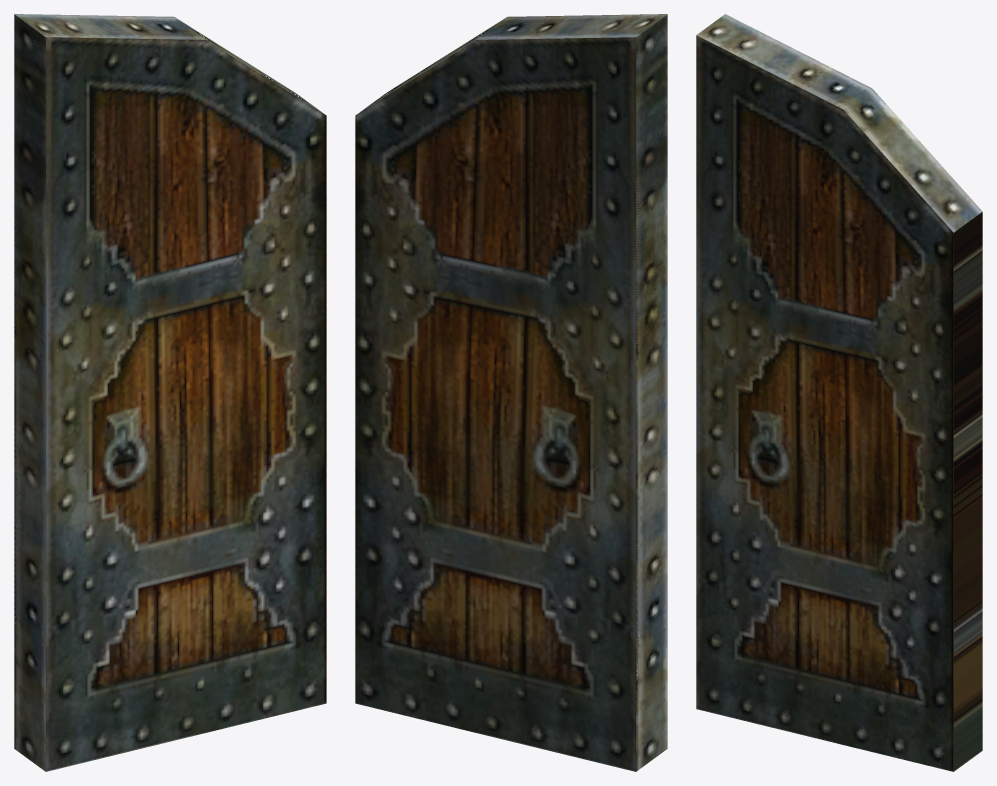
3 renders of one model, left to right at view 1: azimuth 30°, elevation 25°; view 2: azimuth 150°, elevation 25°; view 3: azimuth 330°, elevation 25°, orthographic. The views are drawn at different scales.
Parts seen in each view (by area): view 1: cc103-col; view 2: cc103-col; view 3: cc103-col.
Part boxes in pixels (x1,y1,x2,y2): cc103-col: [14, 14, 326, 771]; cc103-col: [355, 14, 667, 771]; cc103-col: [696, 14, 982, 771].
Bounding box in the file's own units: 1.4 × 3.5 × 0.2739.
1 material, 1 textured.
